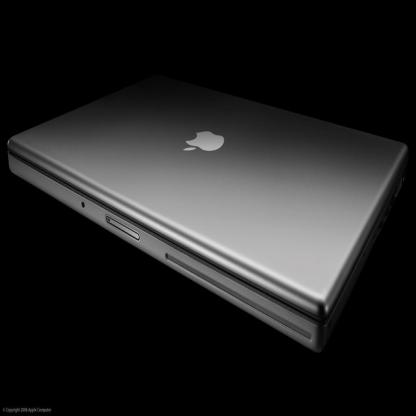board: (4, 71, 408, 359)
